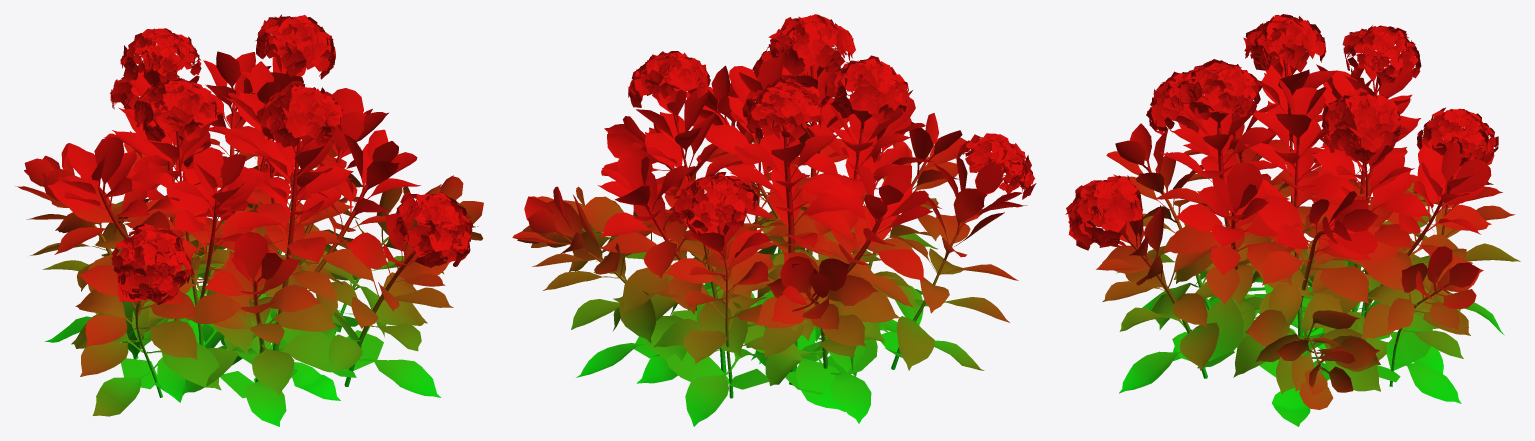
Rendered from Var5_LOD2.fbx.
3 renders of one model, left to right at view 1: azimuth 30°, elevation 25°; view 2: azimuth 150°, elevation 25°; view 3: azimuth 270°, elevation 25°, orthographic. The views are drawn at different scales.
Parts seen in each view (by area): view 1: _ic5s_Var5_LOD2; view 2: _ic5s_Var5_LOD2; view 3: _ic5s_Var5_LOD2.
Boxes of the visible parts, bbox=[...] form: _ic5s_Var5_LOD2: bbox=[15, 14, 483, 426]; _ic5s_Var5_LOD2: bbox=[512, 14, 1036, 426]; _ic5s_Var5_LOD2: bbox=[1065, 14, 1520, 426].
Bounding box in the file's own units: 131 × 88.44 × 120.
